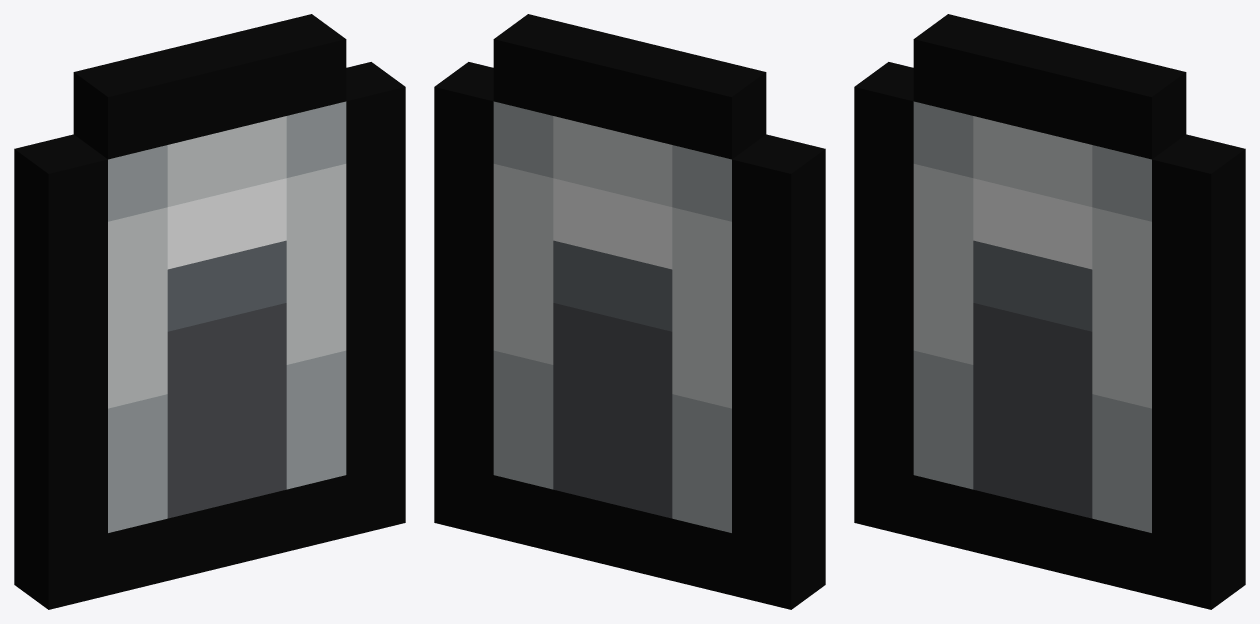
File: Iron Leggings.glb
3 renders of one model, left to right at view 1: azimuth 30°, elevation 25°; view 2: azimuth 150°, elevation 25°; view 3: azimuth 330°, elevation 25°, orthographic.
Parts seen in each view (by area): view 1: Cube.021, Cube.012, Cube.014, Cube.016, Cube.013, Cube.017, Cube.011, Cube.015, Cube.018, Cube.020, Cube.019, Cube.024 (+34 smaller); view 2: Cube.021, Cube.012, Cube.014, Cube.016, Cube.013, Cube.017, Cube.011, Cube.015, Cube.018, Cube.020, Cube.019, Cube.024 (+34 smaller); view 3: Cube.018, Cube.024, Cube.002, Cube.004, Cube.001, Cube.005, Cube.003, Cube.006, Cube.019, Cube.021, Cube.020, Cube.012 (+34 smaller).
Boxes of the visible parts, x1=… form: Cube.021: x1=73, y1=57, x2=167, y2=159; Cube.012: x1=14, y1=134, x2=107, y2=236; Cube.014: x1=14, y1=274, x2=107, y2=360; Cube.016: x1=14, y1=398, x2=107, y2=485; Cube.013: x1=14, y1=211, x2=107, y2=298; Cube.017: x1=14, y1=460, x2=107, y2=547; Cube.011: x1=14, y1=523, x2=107, y2=609; Cube.015: x1=14, y1=336, x2=107, y2=422; Cube.018: x1=252, y1=14, x2=346, y2=115; Cube.020: x1=133, y1=43, x2=227, y2=144; Cube.019: x1=193, y1=28, x2=286, y2=130; Cube.024: x1=346, y1=62, x2=405, y2=163; Cube.021: x1=672, y1=57, x2=766, y2=159; Cube.012: x1=732, y1=134, x2=825, y2=236; Cube.014: x1=732, y1=274, x2=825, y2=360; Cube.016: x1=732, y1=398, x2=825, y2=485; Cube.013: x1=732, y1=211, x2=825, y2=298; Cube.017: x1=732, y1=460, x2=825, y2=547; Cube.011: x1=732, y1=523, x2=825, y2=609; Cube.015: x1=732, y1=336, x2=825, y2=422; Cube.018: x1=493, y1=14, x2=587, y2=115; Cube.020: x1=612, y1=43, x2=706, y2=144; Cube.019: x1=553, y1=28, x2=646, y2=130; Cube.024: x1=434, y1=62, x2=493, y2=163; Cube.018: x1=1092, y1=57, x2=1186, y2=159; Cube.024: x1=1152, y1=134, x2=1245, y2=236; Cube.002: x1=1152, y1=274, x2=1245, y2=360; Cube.004: x1=1152, y1=398, x2=1245, y2=485; Cube.001: x1=1152, y1=211, x2=1245, y2=298; Cube.005: x1=1152, y1=460, x2=1245, y2=547; Cube.003: x1=1152, y1=336, x2=1245, y2=422; Cube.006: x1=1152, y1=523, x2=1245, y2=609; Cube.019: x1=1032, y1=43, x2=1126, y2=144; Cube.021: x1=913, y1=14, x2=1007, y2=115; Cube.020: x1=973, y1=28, x2=1066, y2=130; Cube.012: x1=854, y1=62, x2=913, y2=163.
Bounding box in the file's own units: 6 × 8 × 1.
1 material, 1 textured.
